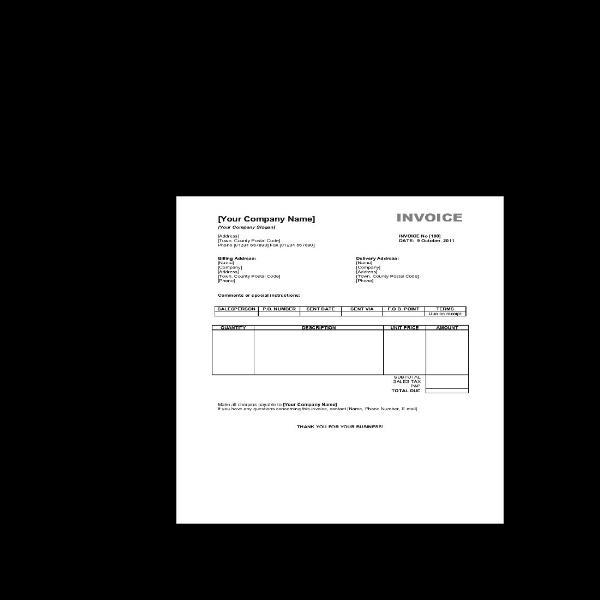test: (177, 197, 502, 522)
